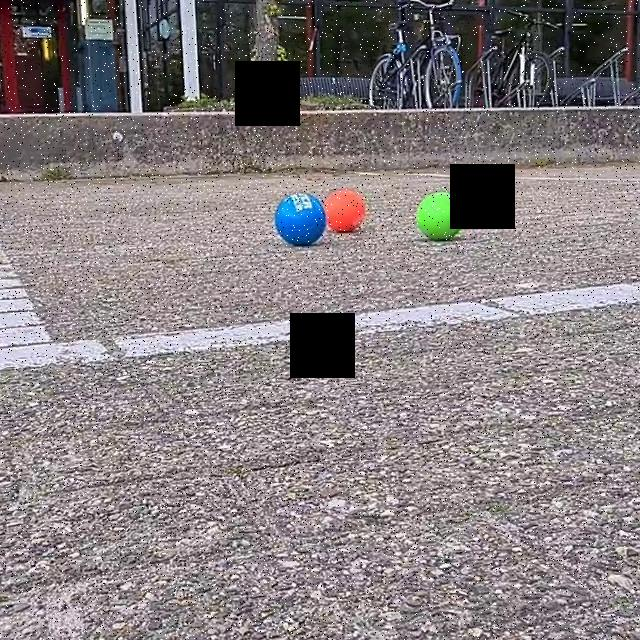ball: (274, 188, 327, 250), (414, 189, 471, 245), (326, 185, 368, 234)
